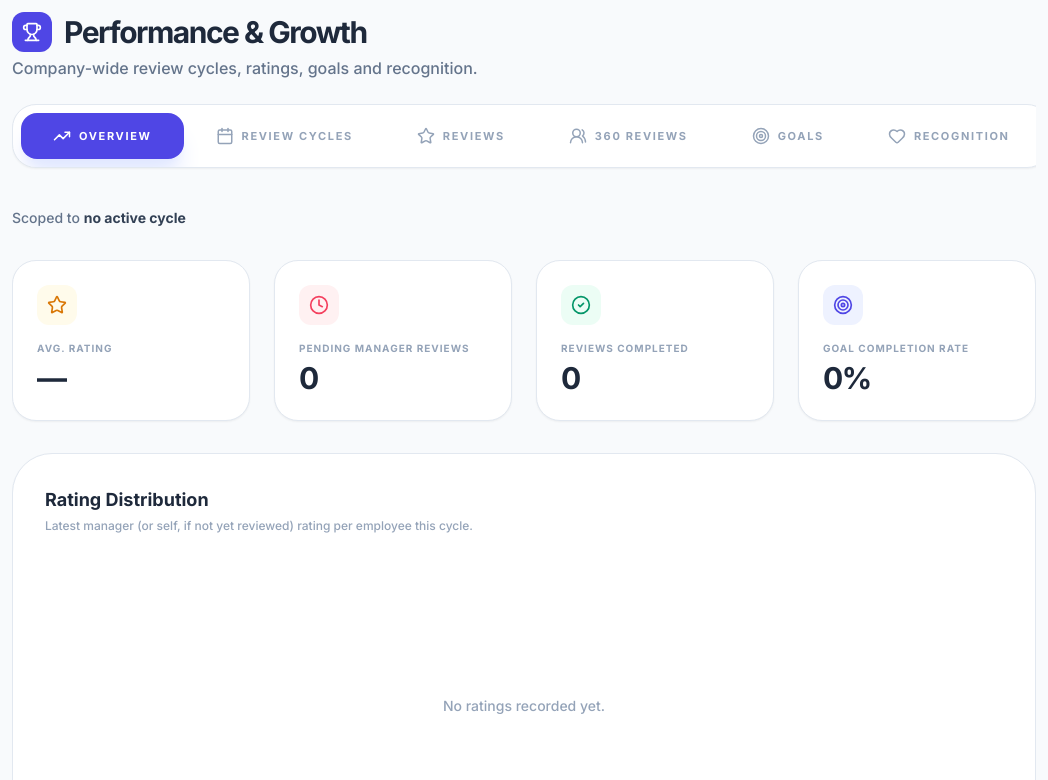
PerformanceManagement (admin) › Reviews tab › shows the empty state when no assessments match the filters
Click the button "Reviews": (461, 136) [385,113,537,159]
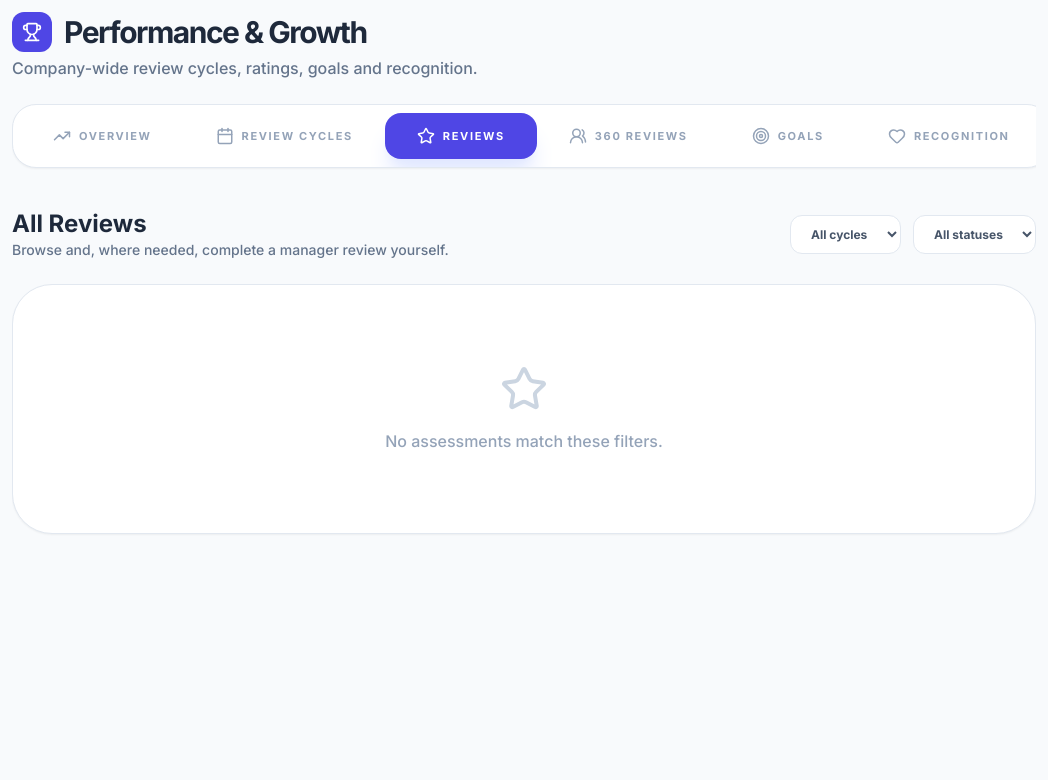
Now the text "No assessments match these filters." is shown, box [385,431,663,451]
